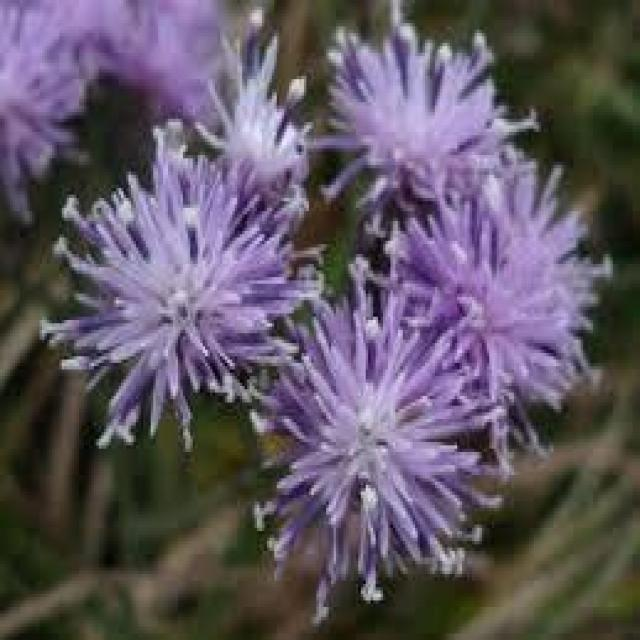organic waste: (230, 254, 464, 597), (61, 155, 340, 442), (393, 174, 618, 474), (309, 25, 531, 196)
